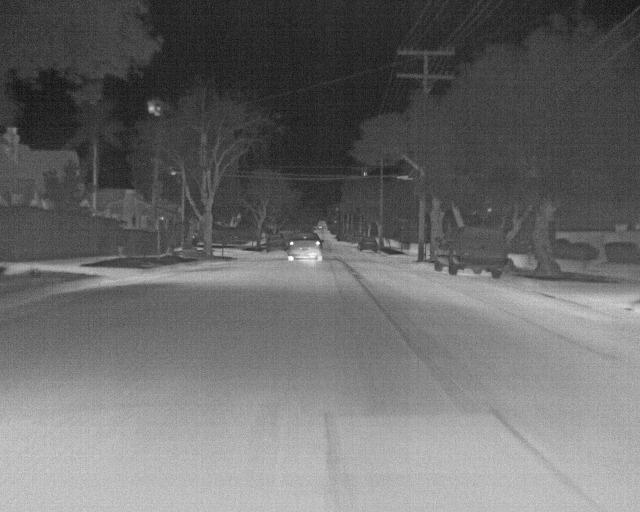car: (432, 228, 509, 278), (287, 230, 322, 262), (267, 233, 286, 252), (356, 236, 376, 252)
